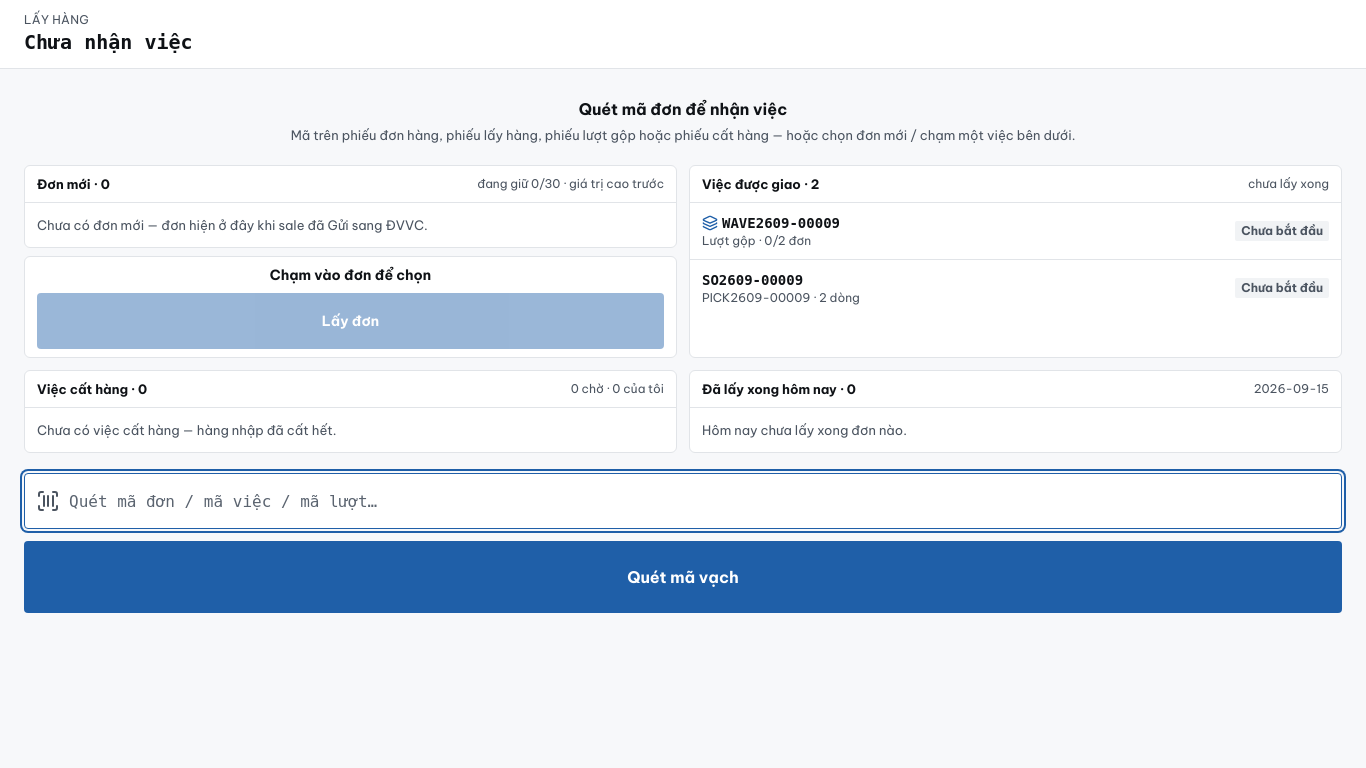
Test: Màn pick trên PDA — quét đơn → dòng theo lối đi → quét SKU → xong đơn (D2) › lượt gộp đã giao (GET /pda/waves) hiện MỘT mục "Lượt" trong "Việc được giao", đơn con của lượt không rải ra; chạm → nhận cả lượt
The image size is (1366, 768).
Expected: the element "Việc được giao" shows "Việc được giao · 2", [689,165,1342,358]
Expected: the element "Việc được giao" shows "Lượt gộp · 0/2 đơn", [689,165,1342,358]
Click the button with aria-label "Mở lượt WAVE2609-00009" at (781, 223), box [690,203,1341,259]
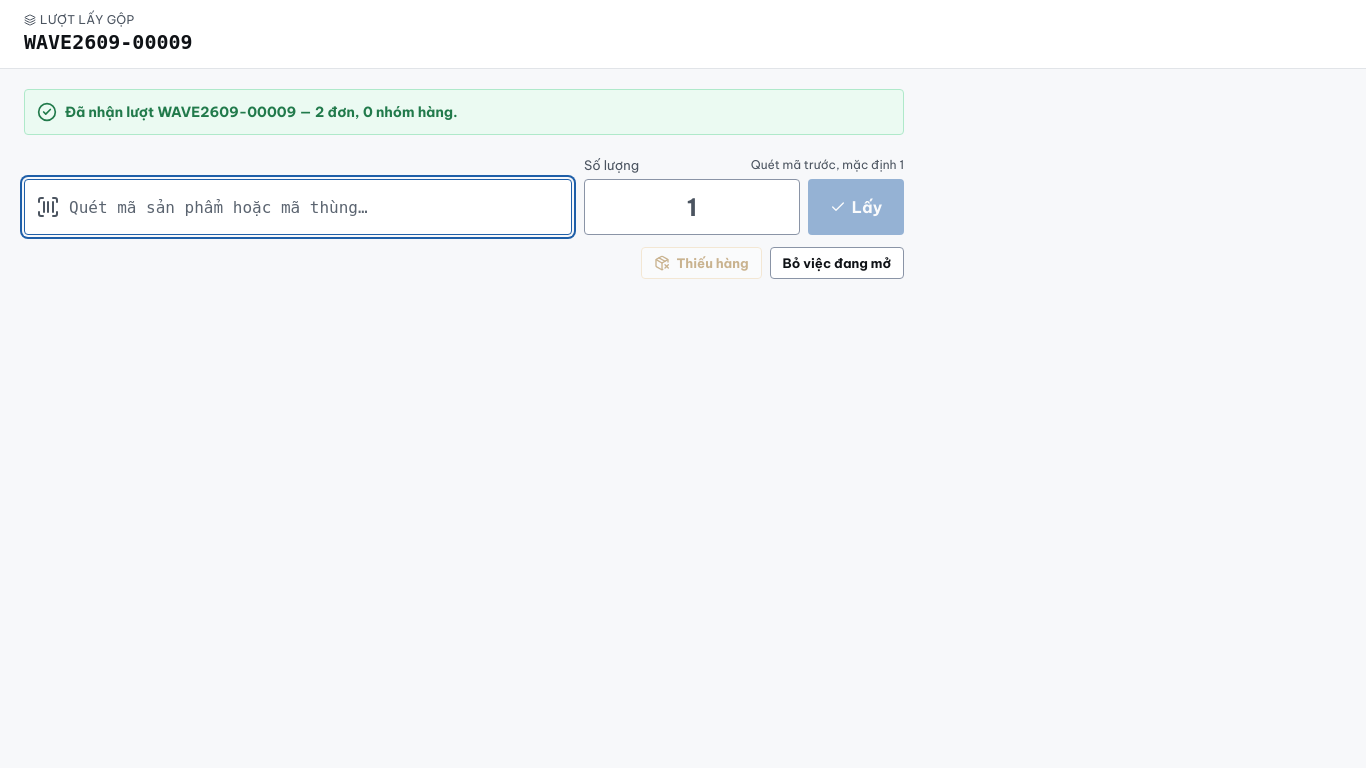
Expected: the text "Lượt lấy gộp" is shown, [24,12,135,27]
Expected: the text "WAVE2609-00009" is shown, [24,28,193,56]
